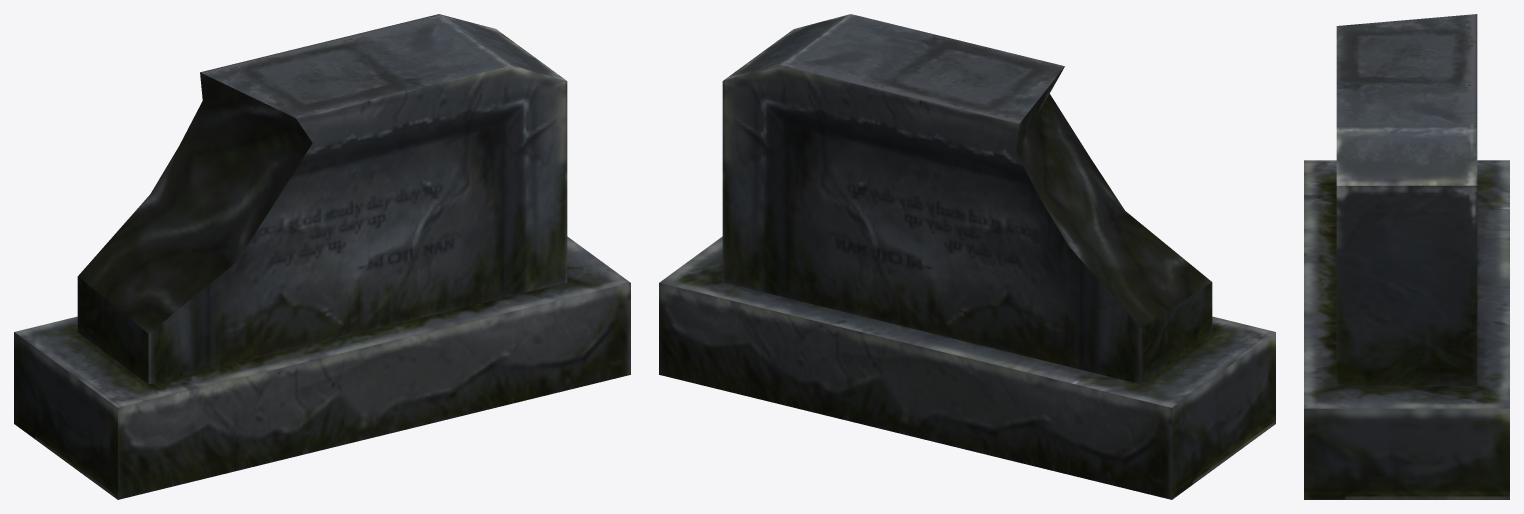
Rendered from C_mubei007.fbx.
The picture shows the model from 3 angles, left to right: view 1: azimuth 30°, elevation 25°; view 2: azimuth 150°, elevation 25°; view 3: azimuth 270°, elevation 25°; orthographic projection.
Visible parts, largest first — view 1: C_mubei007; view 2: C_mubei007; view 3: C_mubei007.
Part boxes in pixels (x1,y1,x2,y2): C_mubei007: (14,14,630,499); C_mubei007: (659,14,1275,499); C_mubei007: (1304,14,1509,499).
Size of the model in its own units: 128 by 76.94 by 44.91.
